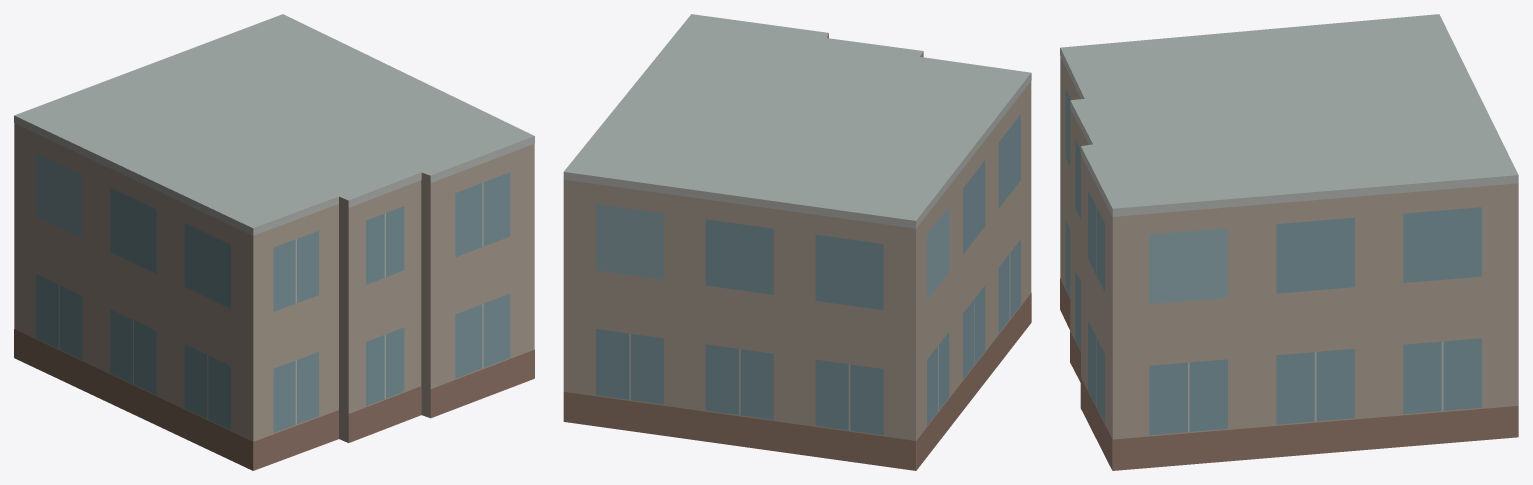
Rendered from survey-upis-32945210.glb.
3 views of the same model, side by side, from view 1: azimuth 30°, elevation 25°; view 2: azimuth 150°, elevation 25°; view 3: azimuth 270°, elevation 25° (orthographic). The views are drawn at different scales.
Visible parts, largest first — view 1: survey-upis-32945210.tmp; view 2: survey-upis-32945210.tmp; view 3: survey-upis-32945210.tmp.
Part boxes in pixels (<box>): survey-upis-32945210.tmp: <box>14,14,534,470</box>; survey-upis-32945210.tmp: <box>563,14,1031,470</box>; survey-upis-32945210.tmp: <box>1060,14,1518,470</box>.
Bounding box in the file's own units: 12.52 × 7.85 × 12.46.
